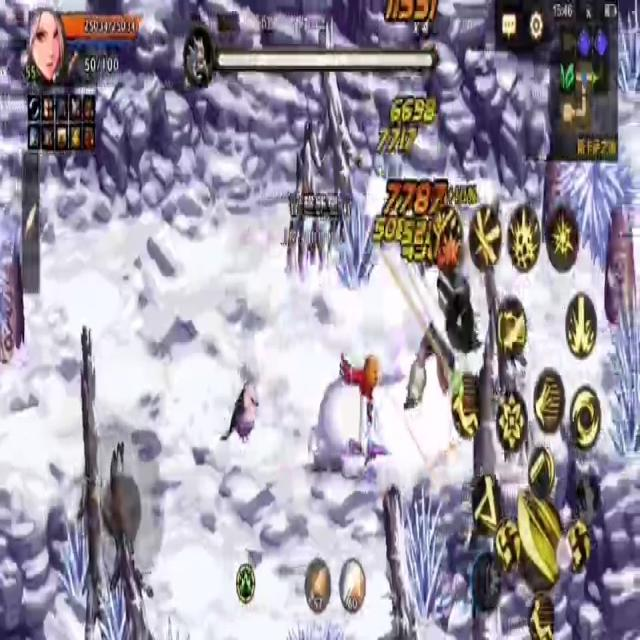player: (309, 351, 382, 469)
